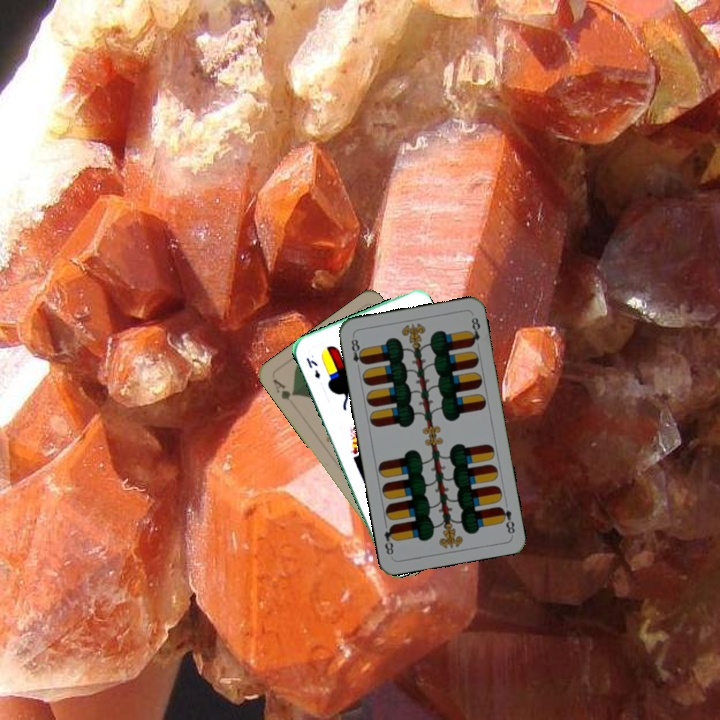E8: (495, 497, 517, 537), (347, 333, 367, 373)
EK: (302, 354, 323, 381)
GA: (269, 375, 297, 403)
